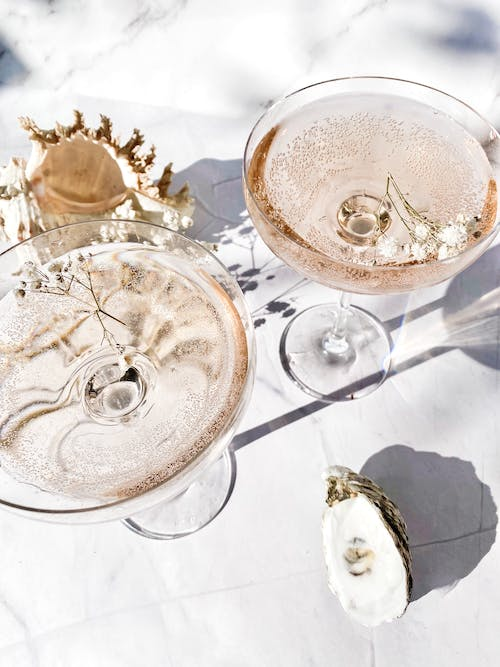alcohol: (242, 73, 500, 403), (0, 217, 257, 541)
